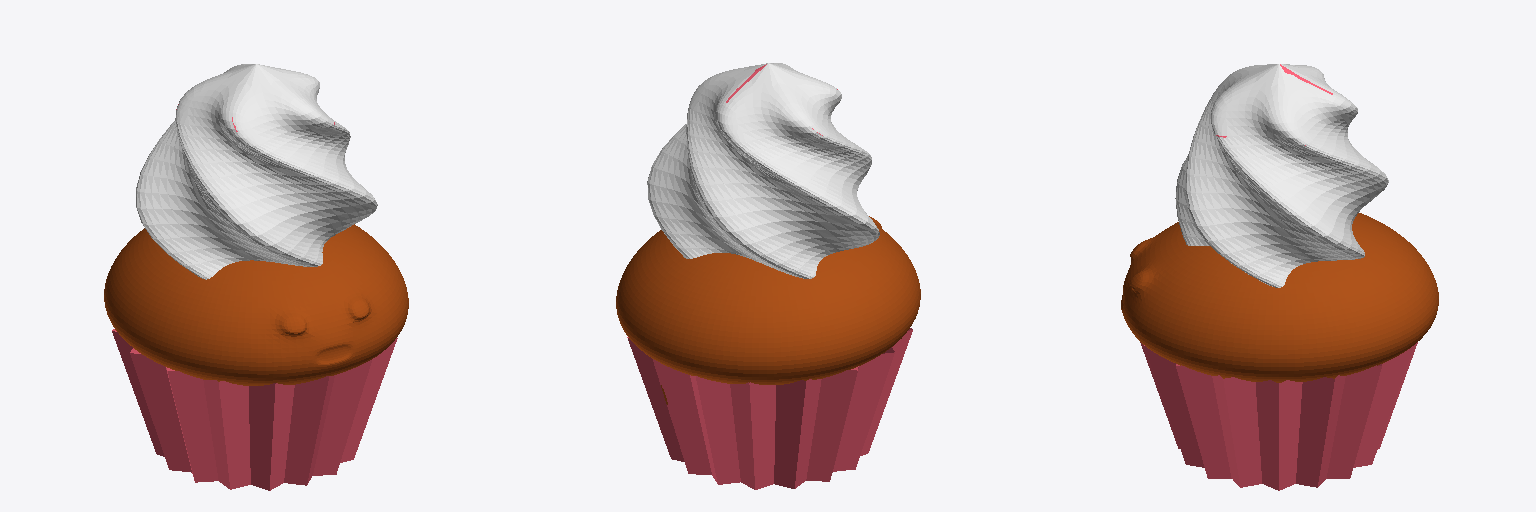
3 renders of one model, left to right at view 1: azimuth 30°, elevation 25°; view 2: azimuth 150°, elevation 25°; view 3: azimuth 270°, elevation 25°, orthographic.
Parts seen in each view (by area): view 1: Star.002, Sphere, Circle.001; view 2: Star.002, Sphere, Circle.001; view 3: Sphere, Star.002, Circle.001.
Part boxes in pixels (left/top/right/bottom): Star.002: left=136, top=64, right=377, bottom=279; Sphere: left=104, top=224, right=408, bottom=385; Circle.001: left=112, top=329, right=397, bottom=490; Star.002: left=647, top=63, right=879, bottom=278; Sphere: left=616, top=216, right=920, bottom=384; Circle.001: left=627, top=328, right=912, bottom=489; Sphere: left=1121, top=213, right=1438, bottom=382; Star.002: left=1175, top=64, right=1388, bottom=287; Circle.001: left=1140, top=342, right=1417, bottom=490.
Bounding box in the file's own units: 1.17 × 1.66 × 1.24.
Materials: 2 (1 with a texture image).